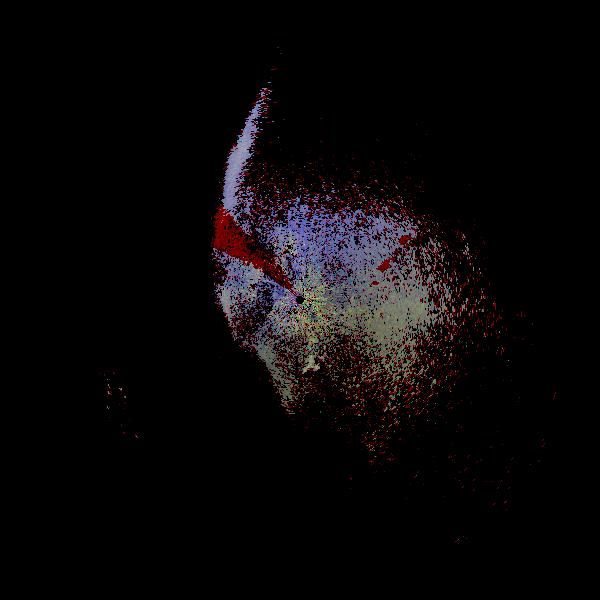roost: (261, 317, 330, 386)
